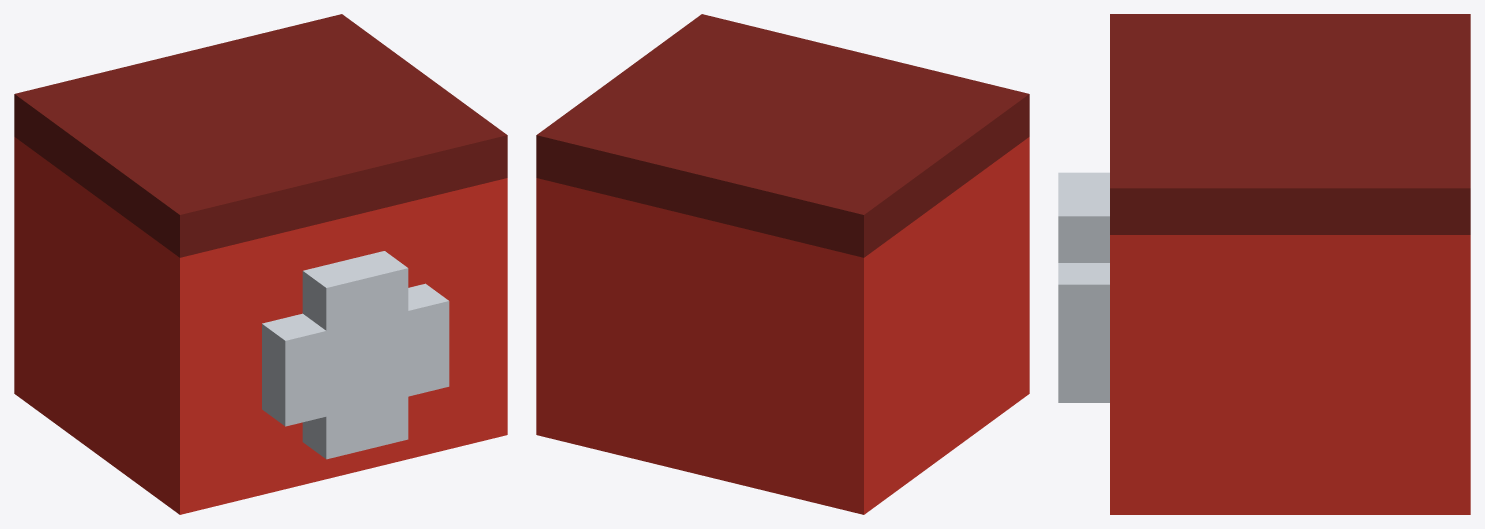
Rendered from item_health_pack.glb.
3 views of the same model, side by side, from view 1: azimuth 30°, elevation 25°; view 2: azimuth 150°, elevation 25°; view 3: azimuth 270°, elevation 25° (orthographic). The views are drawn at different scales.
Visible parts, largest first — view 1: Box mesh, Lid mesh, Cross mesh; view 2: Box mesh, Lid mesh; view 3: Box mesh, Lid mesh, Cross mesh.
Boxes of the visible parts, left/top/right/bottom form: Box mesh: left=14, top=137, right=507, bottom=514; Lid mesh: left=14, top=14, right=507, bottom=257; Cross mesh: left=262, top=251, right=449, bottom=459; Box mesh: left=536, top=137, right=1029, bottom=514; Lid mesh: left=536, top=14, right=1029, bottom=257; Box mesh: left=1110, top=235, right=1470, bottom=514; Lid mesh: left=1110, top=14, right=1470, bottom=234; Cross mesh: left=1058, top=172, right=1109, bottom=402.
Size of the model in its own units: 8 by 7 by 8.
1 material, 1 textured.
